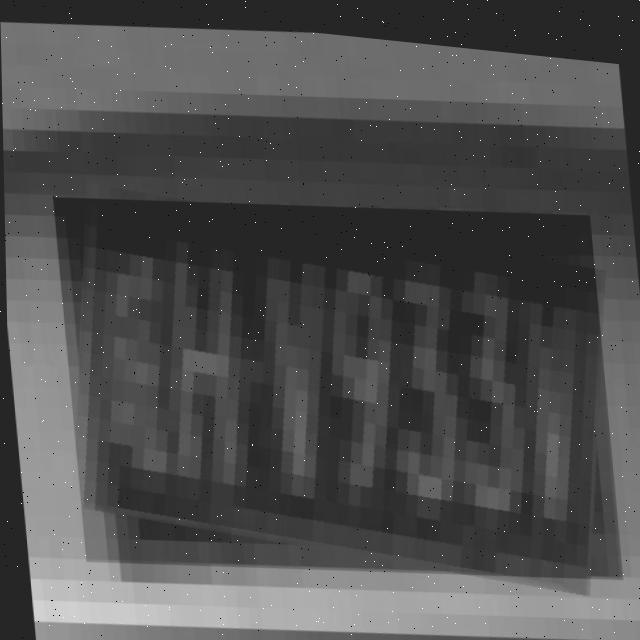LicensePlate: (51, 158, 621, 604)
